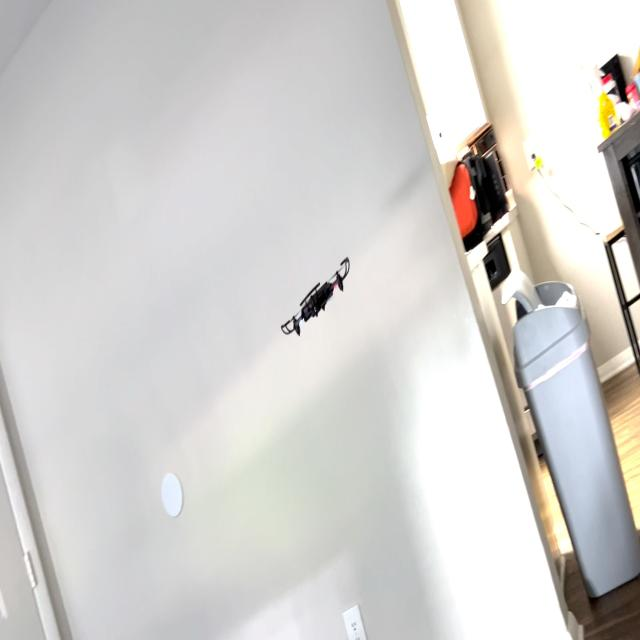drone: (276, 239, 358, 350)
